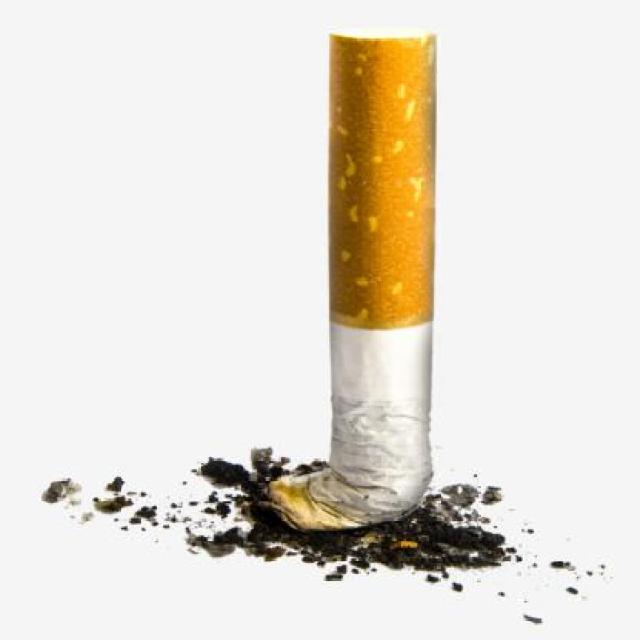cigarette: (265, 30, 470, 536)
